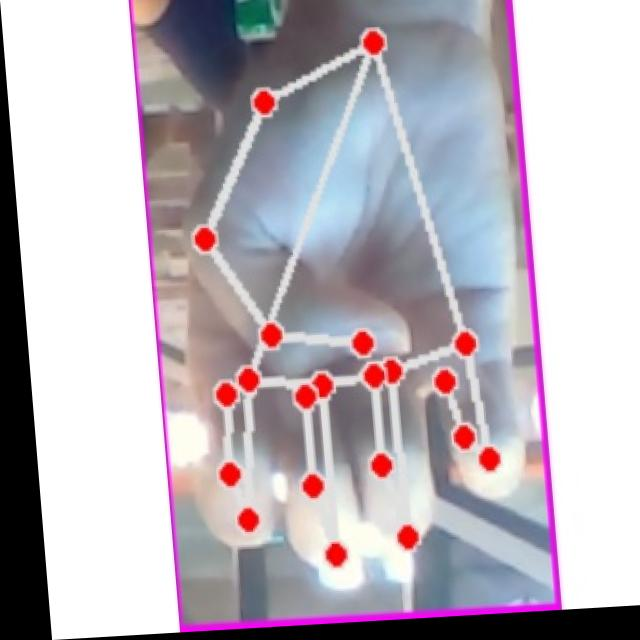E: (140, 9, 535, 596)
